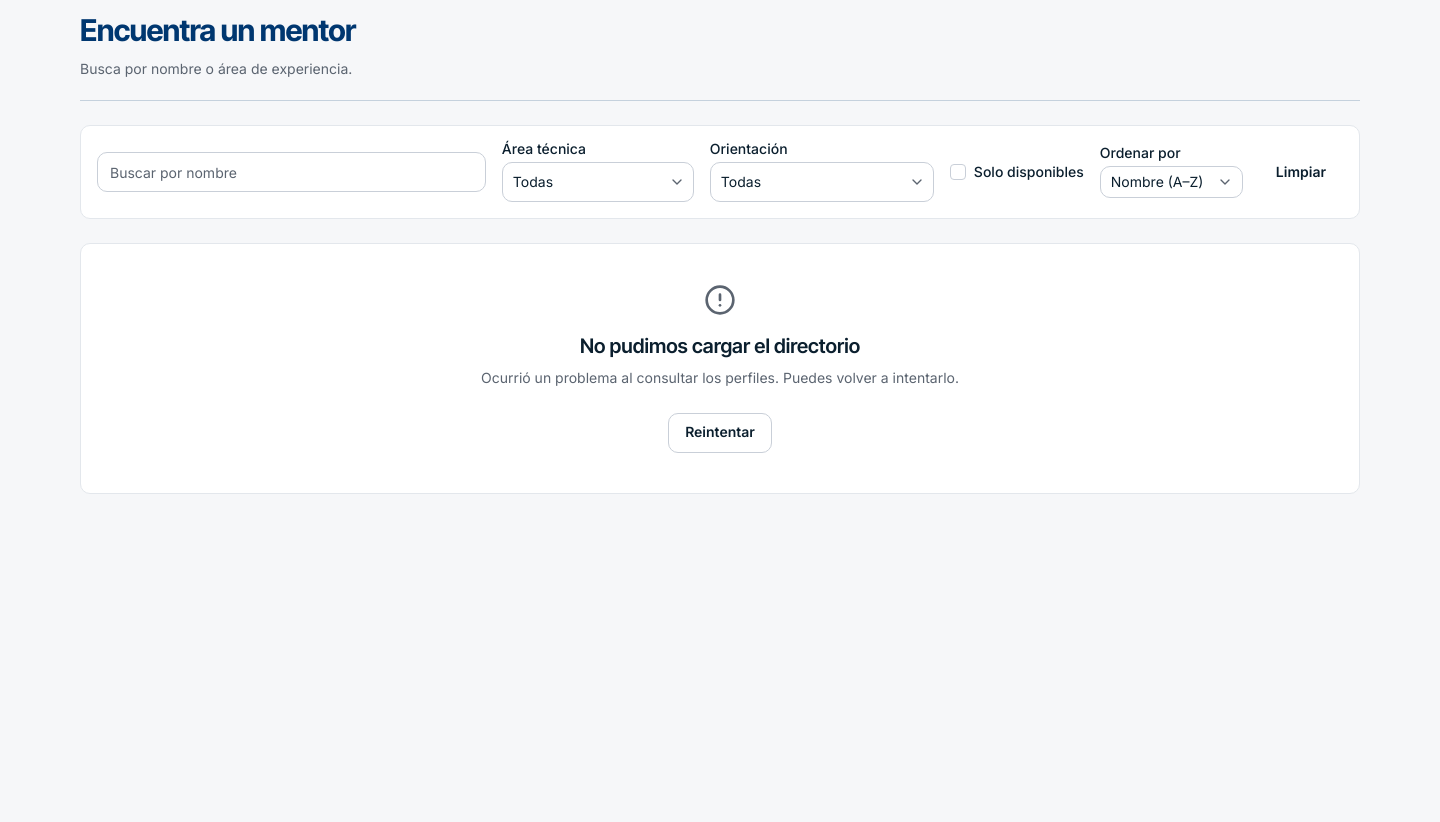
Test: Directory and profile query flows › retries a failed directory query and replaces the error with results
The image size is (1440, 822).
Expected: the message shows "No pudimos cargar el directorio", [580,334,860,358]
What coordinates should you click on to do the following:
click the button "Reintentar"
I would click on:
 (720, 432)
Its box is [668,412,772,452].
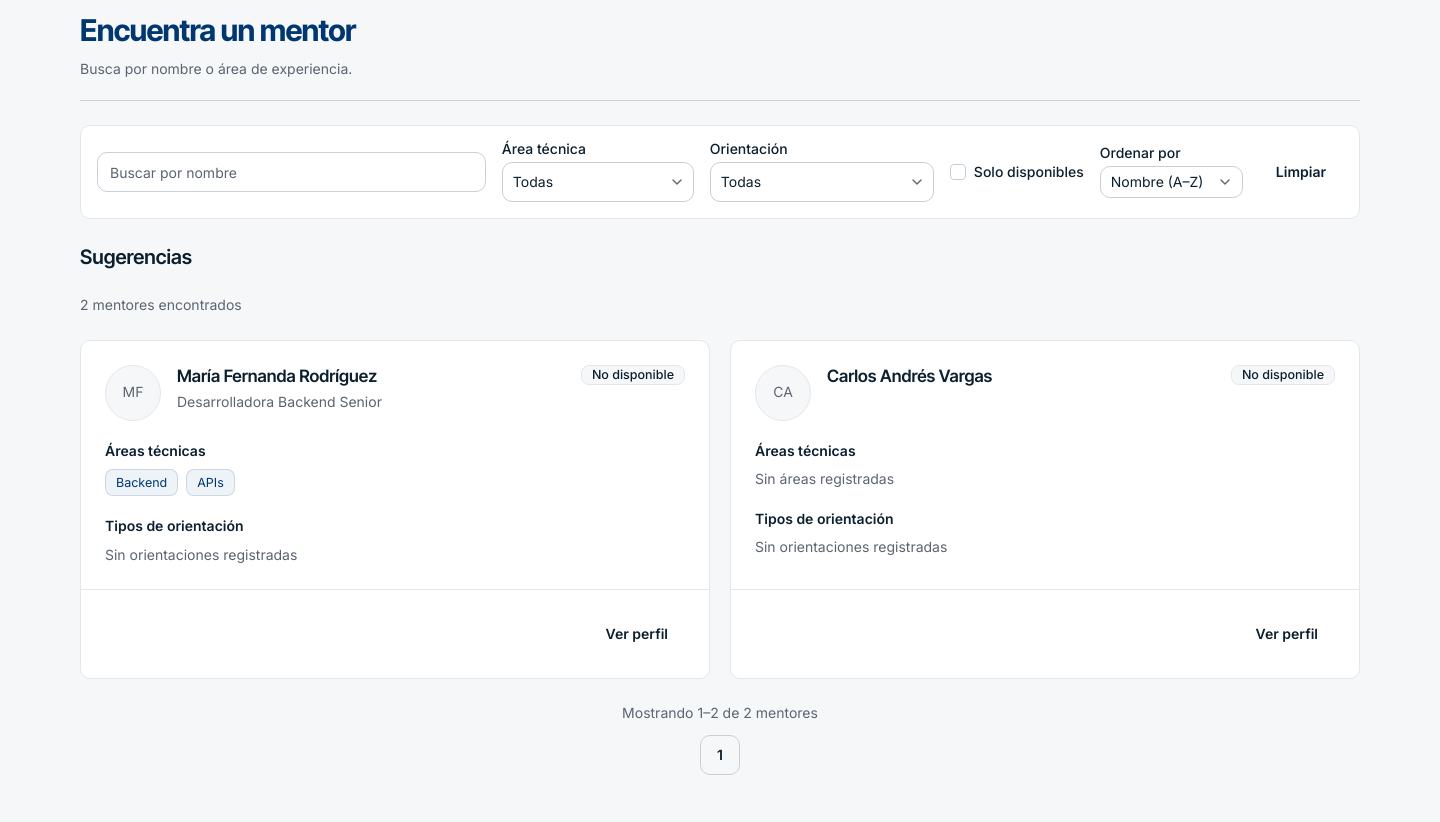
Result: the number of links named "Ver perfil de" is 2 at [606,625,668,642]; [1256,625,1318,642]
